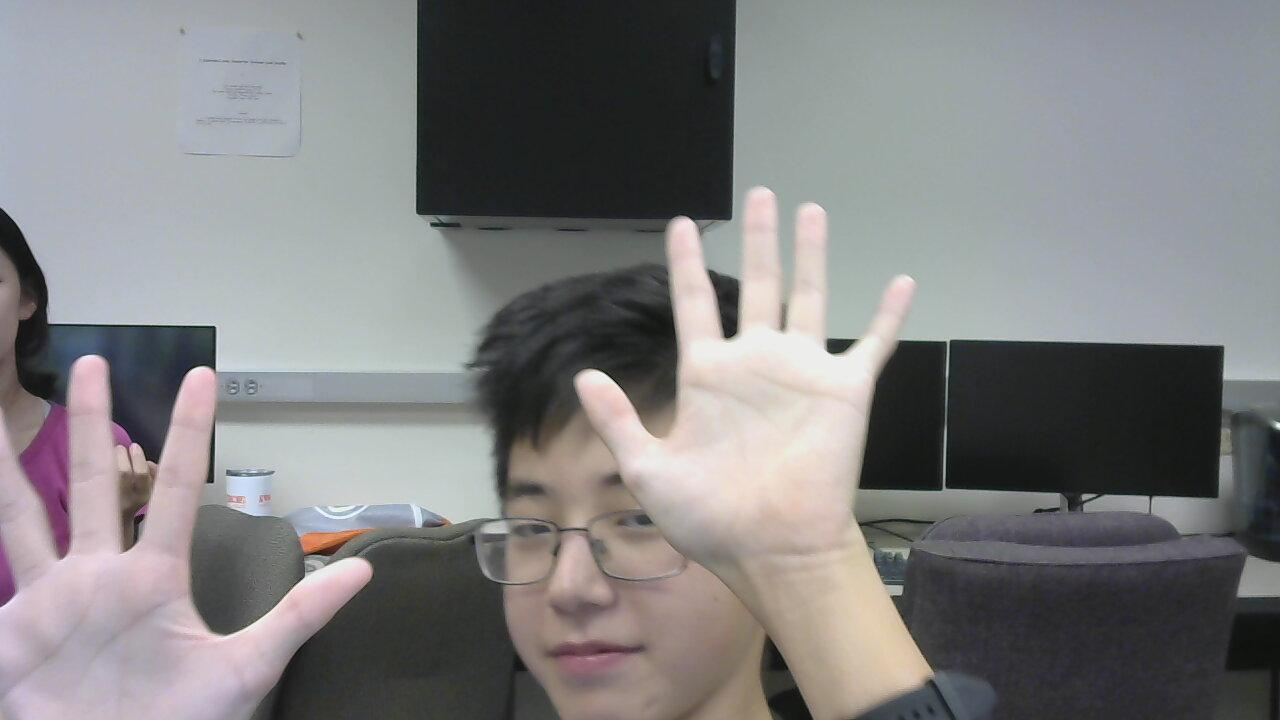hands: (0, 367, 390, 720), (576, 163, 923, 552)
